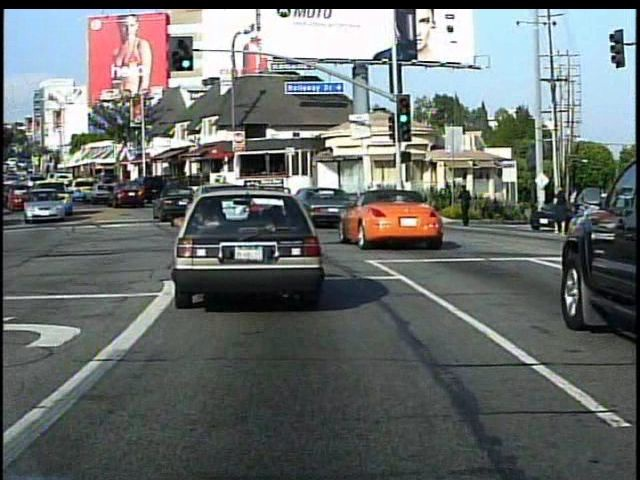person: (550, 183, 570, 237), (456, 182, 476, 230)
